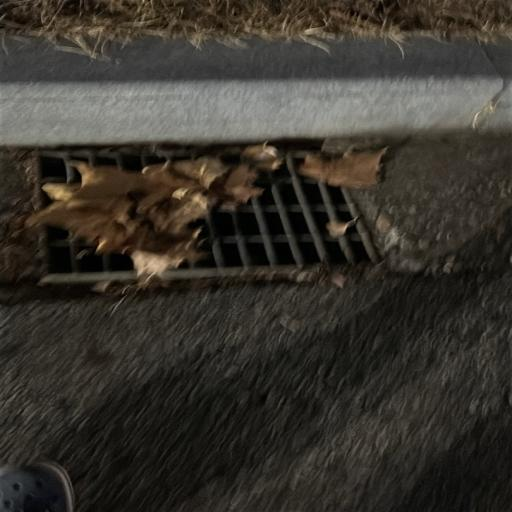debris: (42, 144, 281, 281), (306, 153, 359, 186), (328, 219, 361, 237)
drain: (34, 150, 385, 278)
